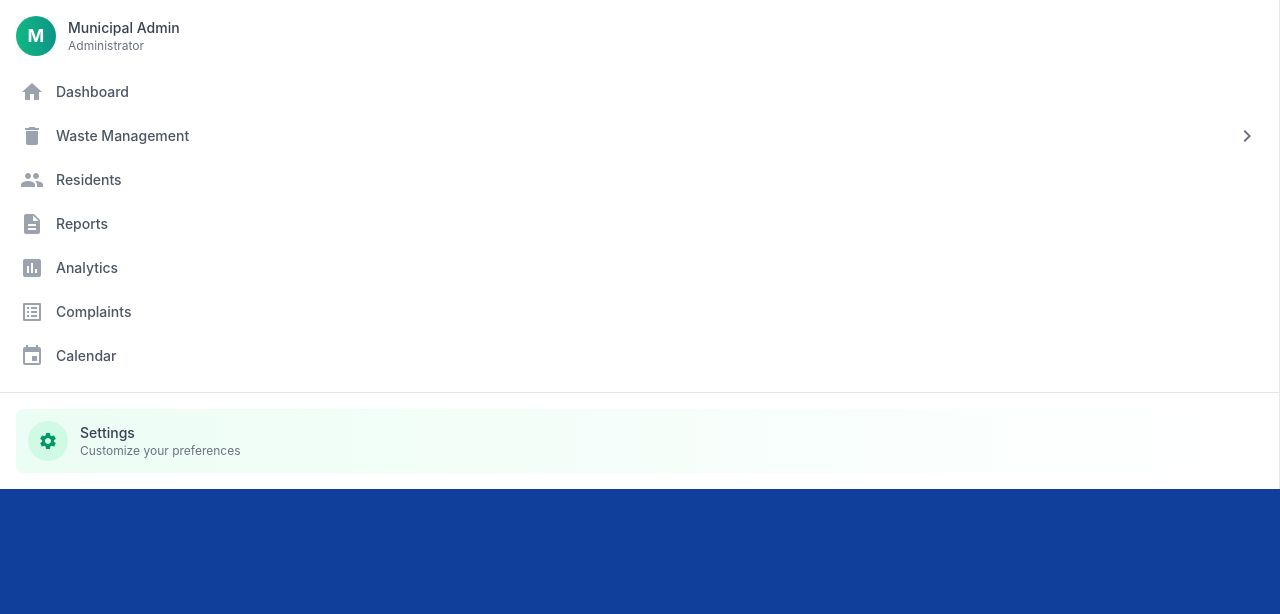
it: MunicipalSidebar › renders links and toggles submenu
Expected: the link "Dashboard" is shown, left=20, top=80, right=129, bottom=104
# expandable menu
Click the button "Waste Management". click: (123, 136)
box: left=8, top=116, right=1271, bottom=156
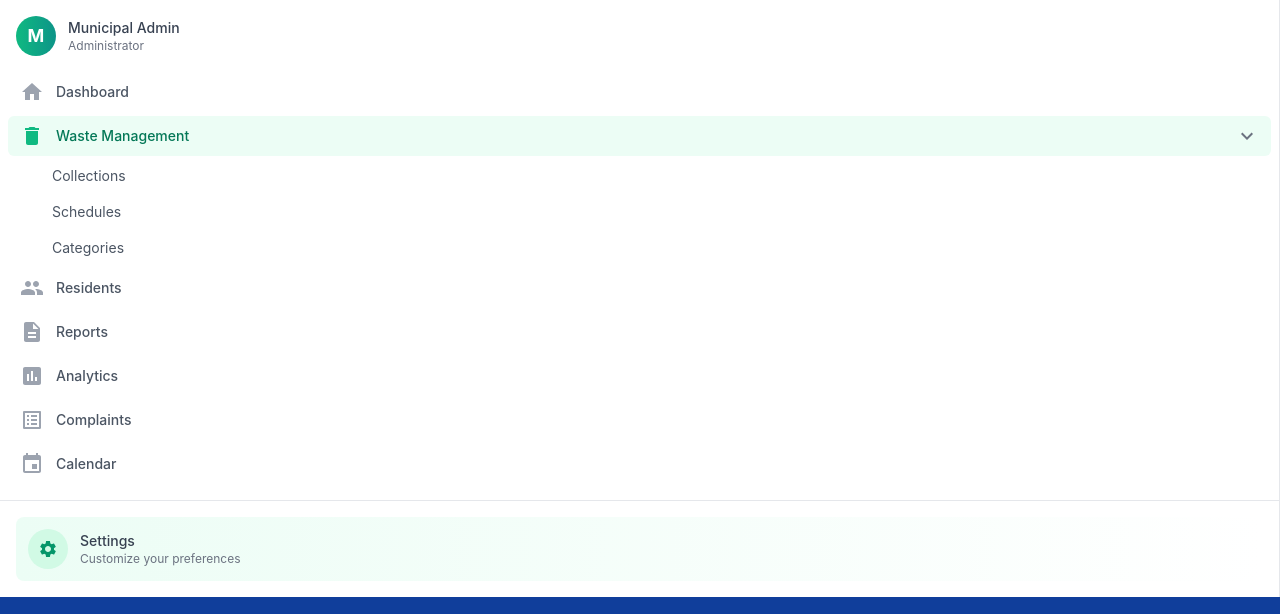
Now the link "Collections" is shown, box left=52, top=167, right=126, bottom=184
